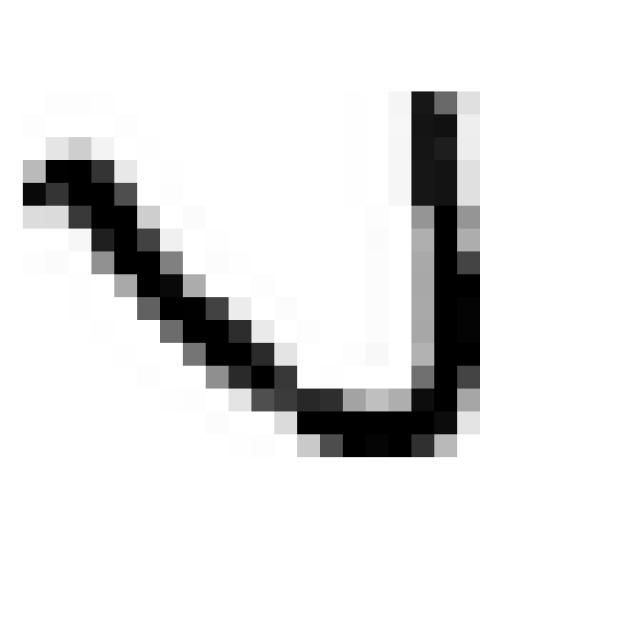7 -seven-: (16, 68, 499, 476)
